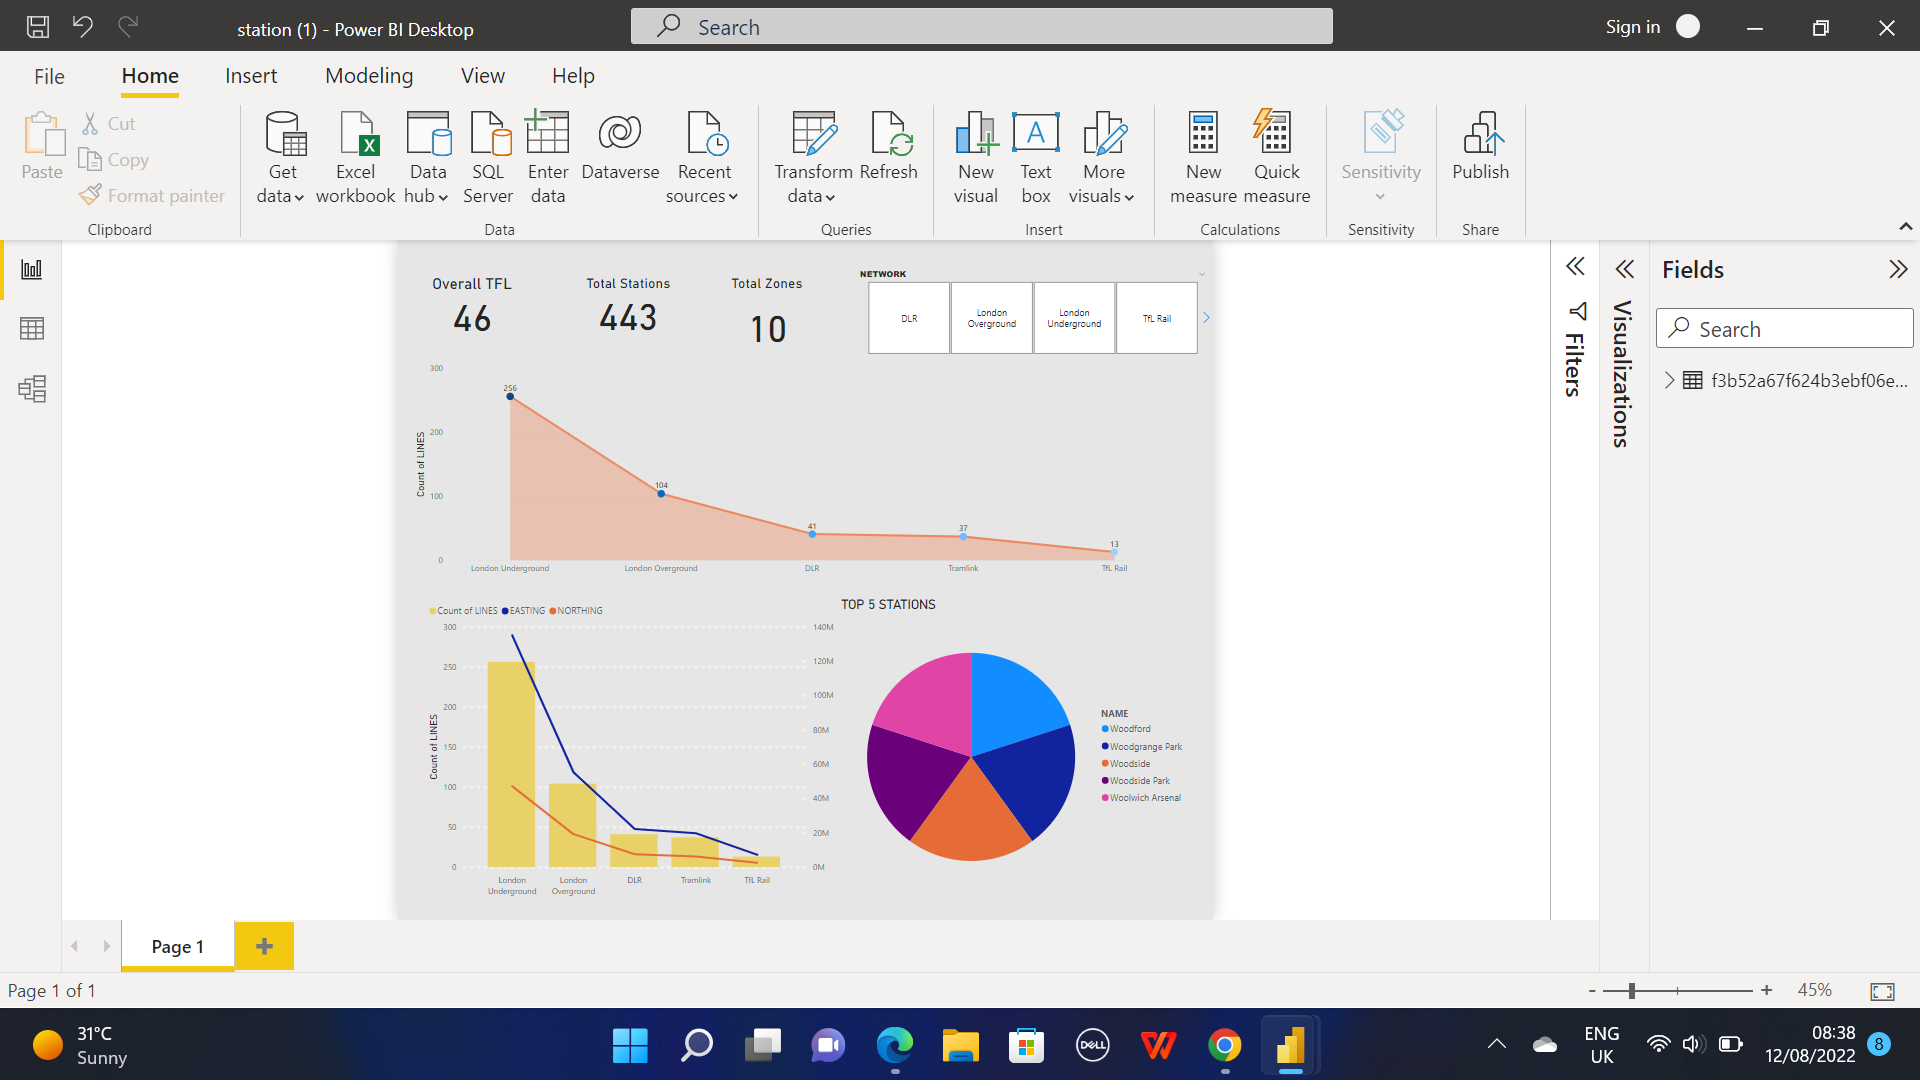

What the dashboard file says about the page in this screenshot:
{"tool":"powerbi","page":{"name":"Page 1","canvas":[1200,1000],"ordinal":0},"visuals":[{"type":"areaChart","title":"Count of NETWORK ","fields":{"Category":["f3b52a67f624b3ebf06e884f564dccb.NETWORK"],"Y":["CountNonNull(f3b52a67f624b3ebf06e884f564dccb.LINES)"]},"box":[19.9,174.4,1128,326.7],"z":0},{"type":"card","title":"Overall TFL ","fields":{"Values":["Count(f3b52a67f624b3ebf06e884f564dccb.LINES)"]},"box":[0,50.8,218.5,88.3],"z":1000},{"type":"lineClusteredColumnComboChart","fields":{"Y":["CountNonNull(f3b52a67f624b3ebf06e884f564dccb.LINES)"],"Category":["f3b52a67f624b3ebf06e884f564dccb.NETWORK"],"Y2":["Sum(f3b52a67f624b3ebf06e884f564dccb.EASTING)","Sum(f3b52a67f624b3ebf06e884f564dccb.NORTHING)"]},"box":[39.7,525.4,607.1,448.1],"z":2000},{"type":"card","title":"Total Stations","fields":{"Values":["Count(f3b52a67f624b3ebf06e884f564dccb.NAME)"]},"box":[238.4,50.8,200.9,88.3],"z":3000},{"type":"slicer","fields":{"Values":["f3b52a67f624b3ebf06e884f564dccb.NETWORK"]},"box":[666.7,50.8,534.2,88.3],"z":4000},{"type":"pieChart","title":"TOP 5 STATIONS","fields":{"Category":["f3b52a67f624b3ebf06e884f564dccb.NAME"],"Y":["CountNonNull(f3b52a67f624b3ebf06e884f564dccb.LINES)"]},"box":[646.8,525.4,521,448.1],"z":6000},{"type":"card","title":"Total Zones","fields":{"Values":["Count(f3b52a67f624b3ebf06e884f564dccb.Zone)"]},"box":[439.3,50.8,207.5,123.6],"z":6001}]}

Visuals, with their boxes in screenshot pixels (x1, y1, x2, y2):
"Count of NETWORK " areaChart: 425/179/1584/515
"Overall TFL " card: 405/52/629/143
lineClusteredColumnComboChart - CountNonNull(f3b52a67f624b3ebf06e884f564dccb.LINES) x f3b52a67f624b3ebf06e884f564dccb.NETWORK: 446/540/1069/1000
"Total Stations" card: 650/52/856/143
slicer - f3b52a67f624b3ebf06e884f564dccb.NETWORK: 1090/52/1639/143
"TOP 5 STATIONS" pieChart: 1069/540/1605/1000
"Total Zones" card: 856/52/1069/179
